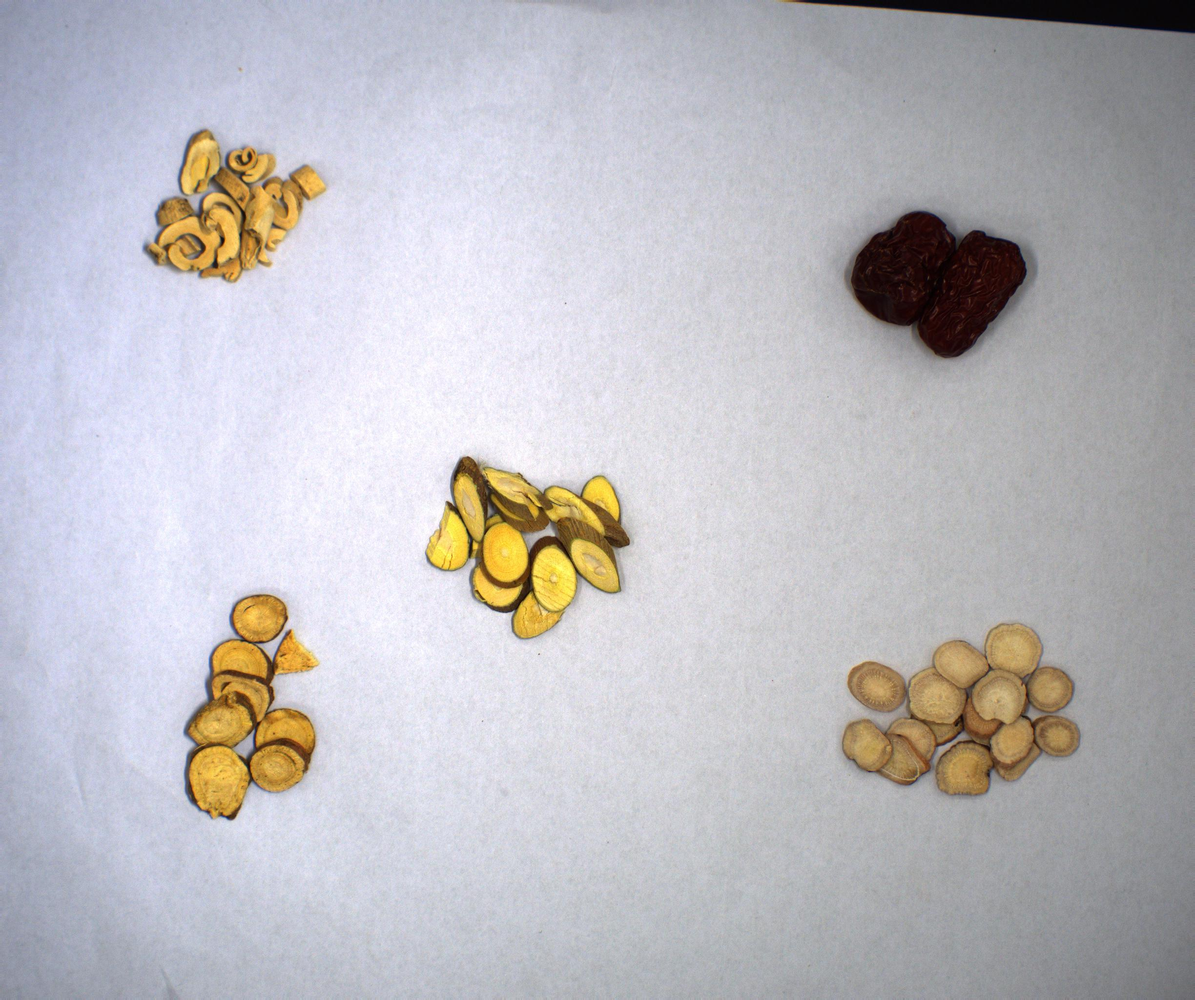baishao: (827, 571, 1124, 846)
baixianpi: (123, 66, 369, 309)
dazao: (817, 150, 1073, 398)
gancaopian: (150, 551, 343, 855)
sangzhi: (404, 411, 656, 671)
